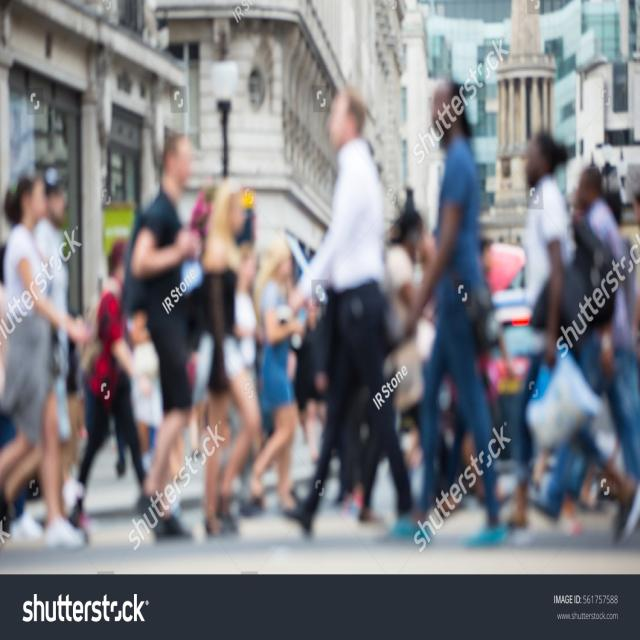body: (381, 69, 518, 552), (493, 122, 640, 557), (281, 84, 414, 535), (530, 154, 640, 526), (0, 162, 96, 560), (120, 130, 202, 541), (555, 156, 640, 523), (0, 159, 73, 537), (358, 207, 442, 526), (192, 172, 264, 537), (191, 191, 277, 477), (74, 238, 152, 530), (180, 176, 244, 478), (0, 178, 50, 548), (242, 228, 304, 516), (466, 238, 515, 498), (124, 304, 166, 481), (294, 292, 328, 463)
